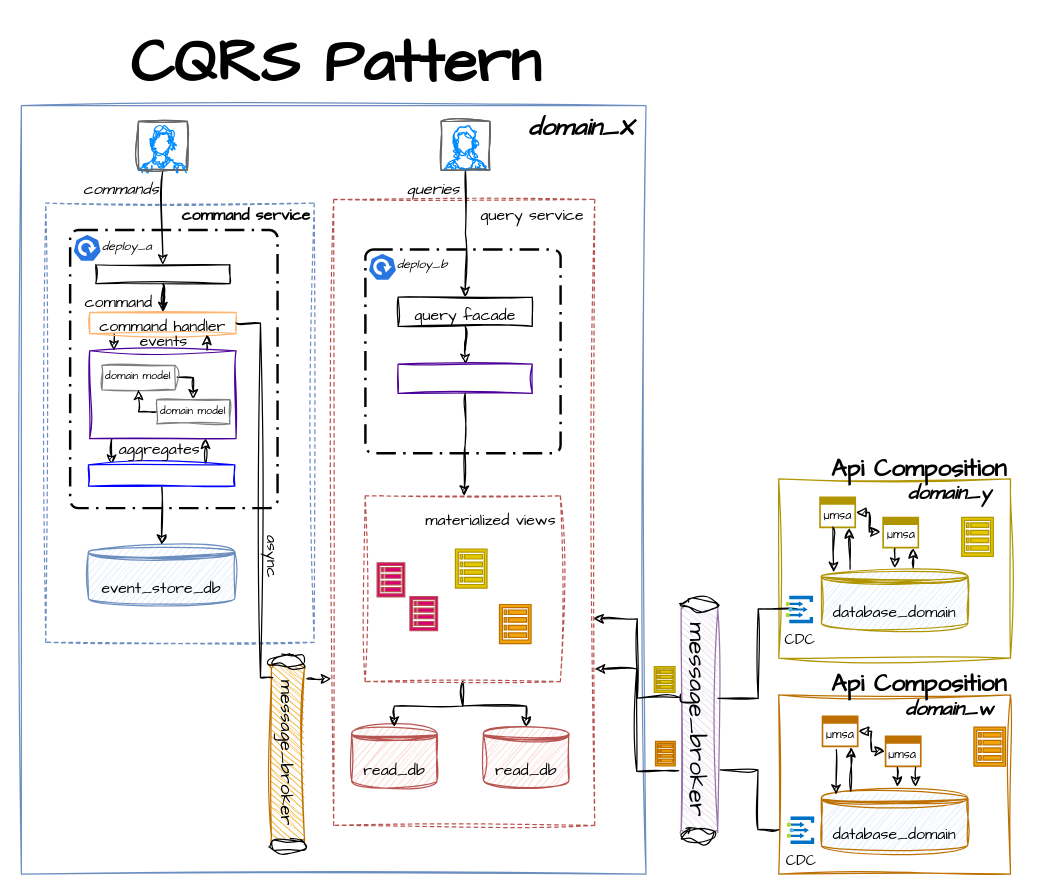
This 1042x895 diagram has some shape labels left out. Here are the shapes that lost their labels. From the top down, the centre of each, then its label:
the point at 162,274: command bus
the point at 464,378: thin repo layer
the point at 161,475: repository
